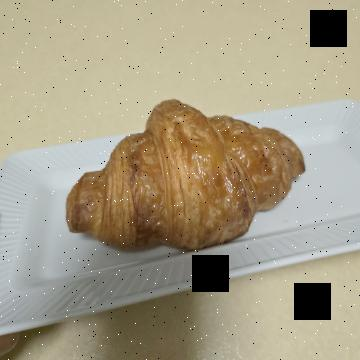croissant: (99, 44, 273, 302)
